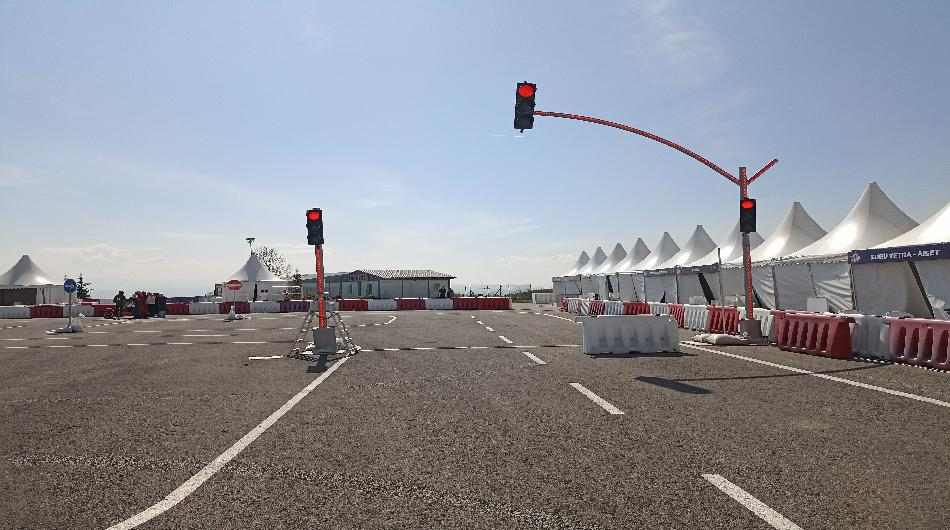red_light: (516, 80, 535, 131), (304, 206, 327, 245), (740, 199, 757, 232)
